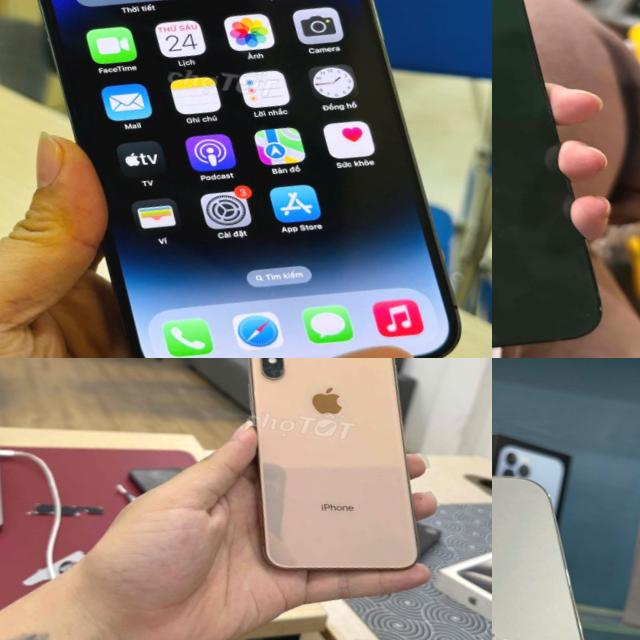gen_12_13: (492, 0, 640, 358), (492, 449, 640, 640)
gen_14: (0, 0, 492, 358)
gen_x_xs: (215, 358, 450, 590)
scratch: (274, 366, 290, 379), (260, 361, 274, 374)
